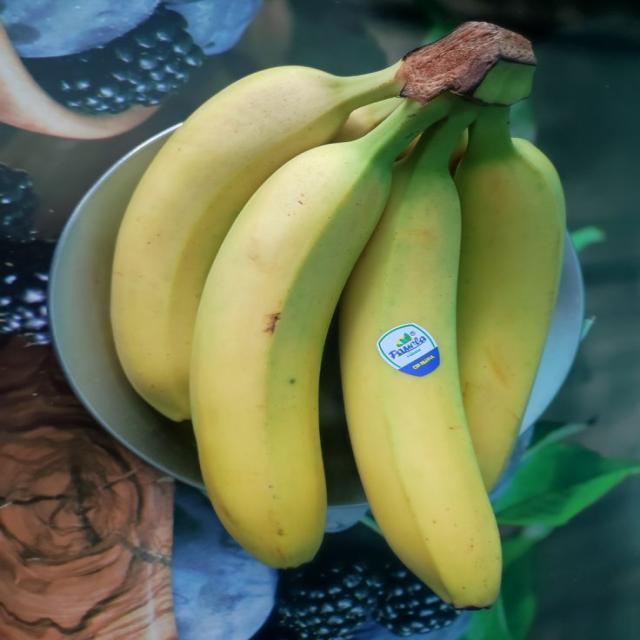unpeal banana: (191, 96, 451, 567), (111, 63, 402, 421), (340, 103, 501, 607), (455, 107, 565, 489)
